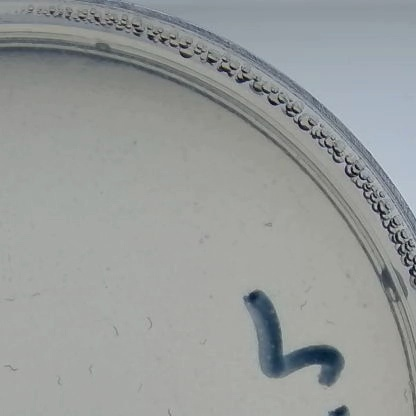worm: (19, 285, 48, 306), (391, 381, 414, 406), (134, 313, 158, 332), (315, 311, 339, 329), (2, 359, 23, 379), (294, 292, 311, 313), (155, 405, 186, 416), (0, 245, 17, 265), (105, 319, 123, 337), (194, 333, 212, 349), (55, 370, 68, 392), (0, 289, 16, 305), (131, 380, 146, 396), (88, 359, 98, 380), (301, 283, 316, 296)
